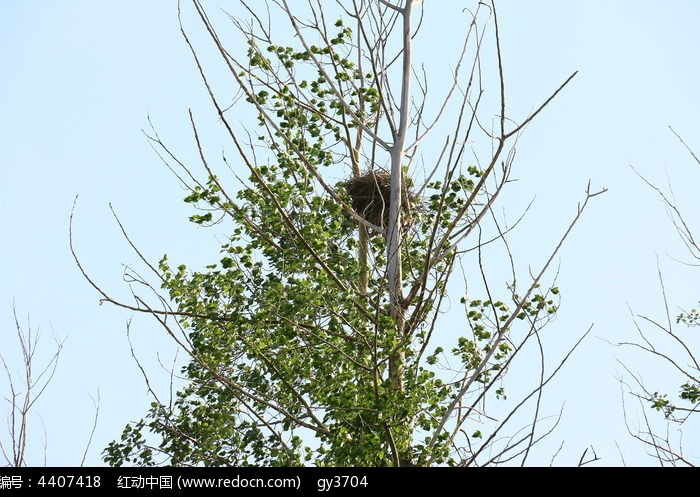bird-nest: (343, 167, 420, 235)
